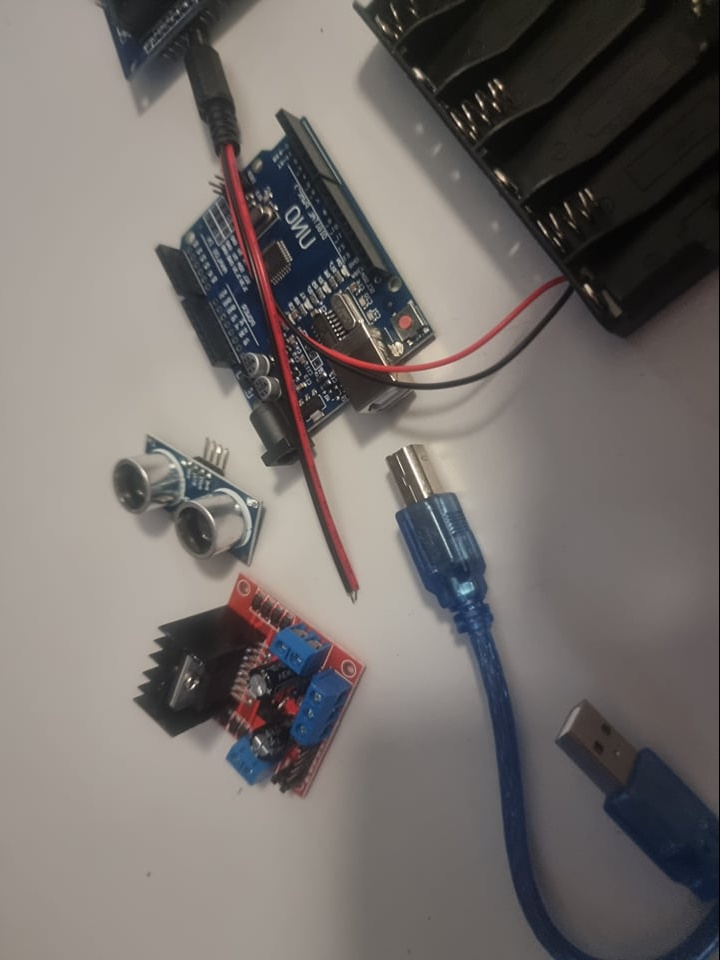BATTERY BOX: (351, 1, 720, 341)
MOTOR: (125, 580, 369, 809)
SENSOR: (99, 435, 263, 568)
UNO R3: (155, 111, 438, 468)
